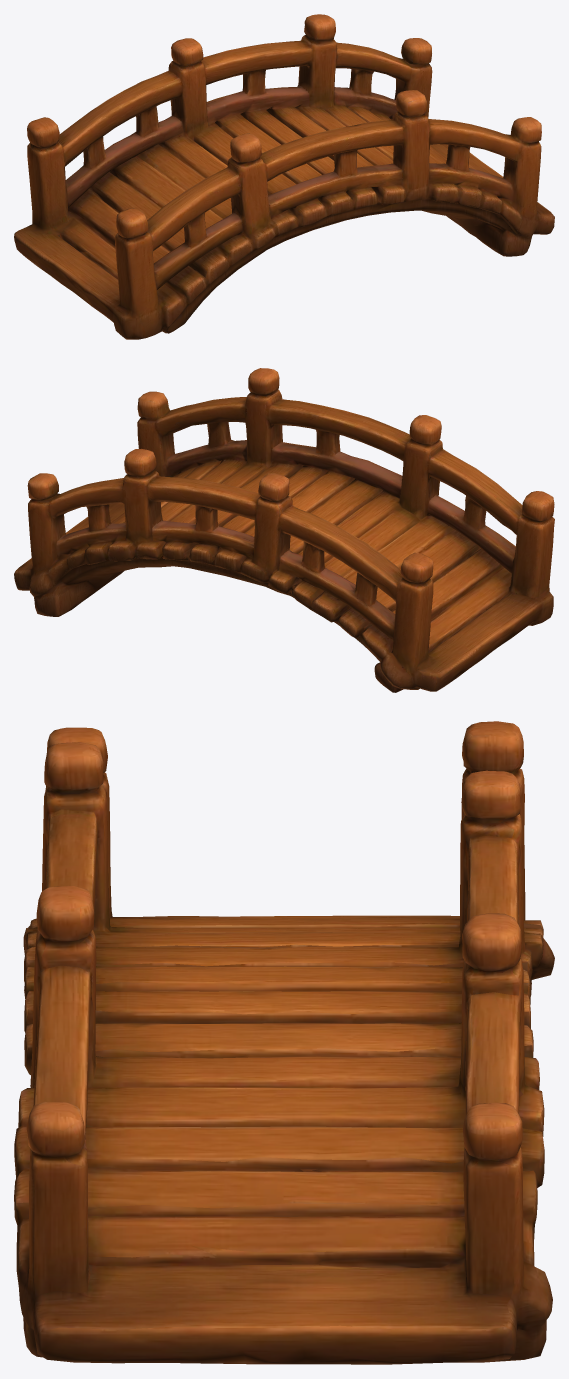
The model's file is bridge.glb.
The picture shows the model from 3 angles, top to bottom: view 1: azimuth 30°, elevation 25°; view 2: azimuth 150°, elevation 25°; view 3: azimuth 270°, elevation 25°; orthographic projection. The views are drawn at different scales.
Bounding box in the file's own units: 0.9998 × 0.4113 × 0.5485.
1 material, 1 textured.
